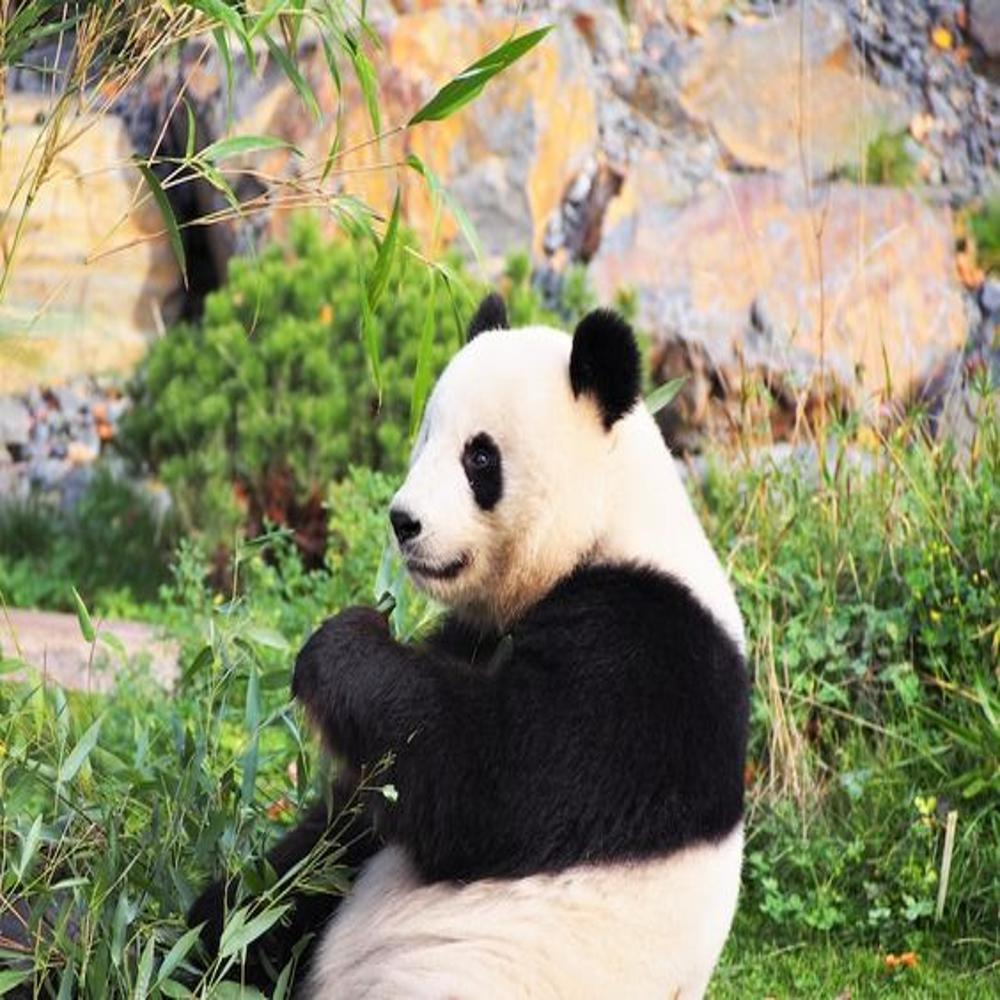panda: (211, 290, 752, 1000)
